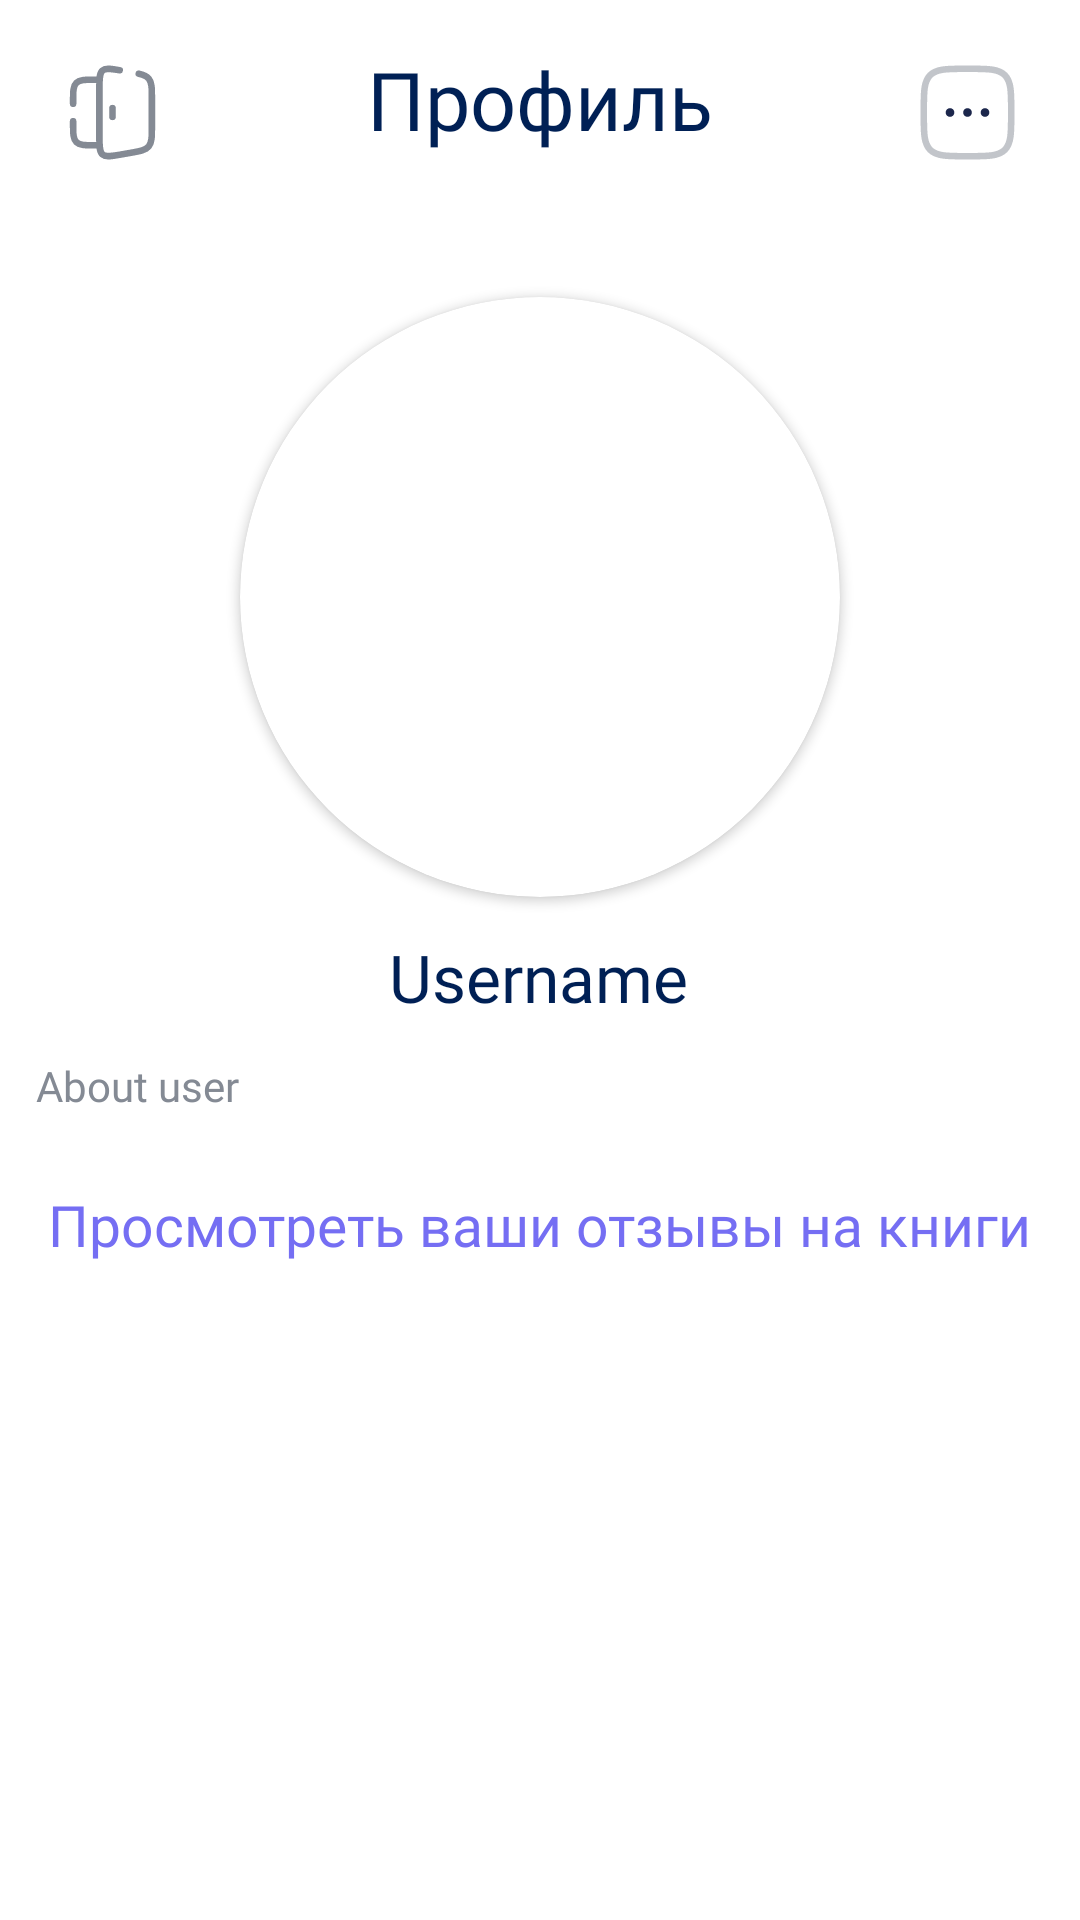

Point at icon controls on the screen. Image size 1080 × 1920, points as (x,y).
dots: (967,112)
quit: (112,112)
